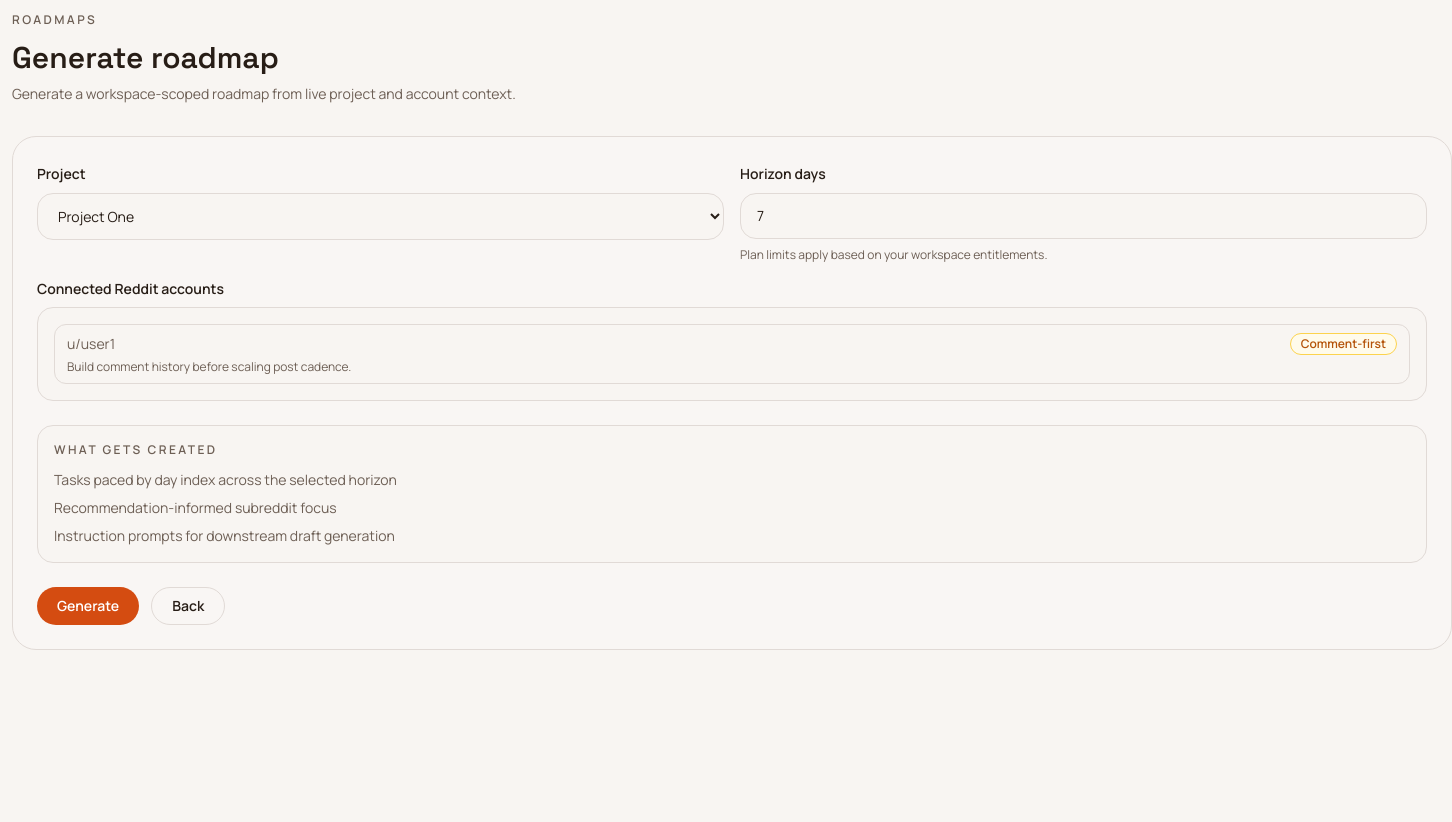
Test: RoadmapGenerateForm › shows detailed horizon message when API returns ROADMAP_HORIZON_LIMIT
What coordinates should you click on to do the following:
click the button "Generate"
I would click on:
 (88, 606)
Its box is [37,587,139,625].
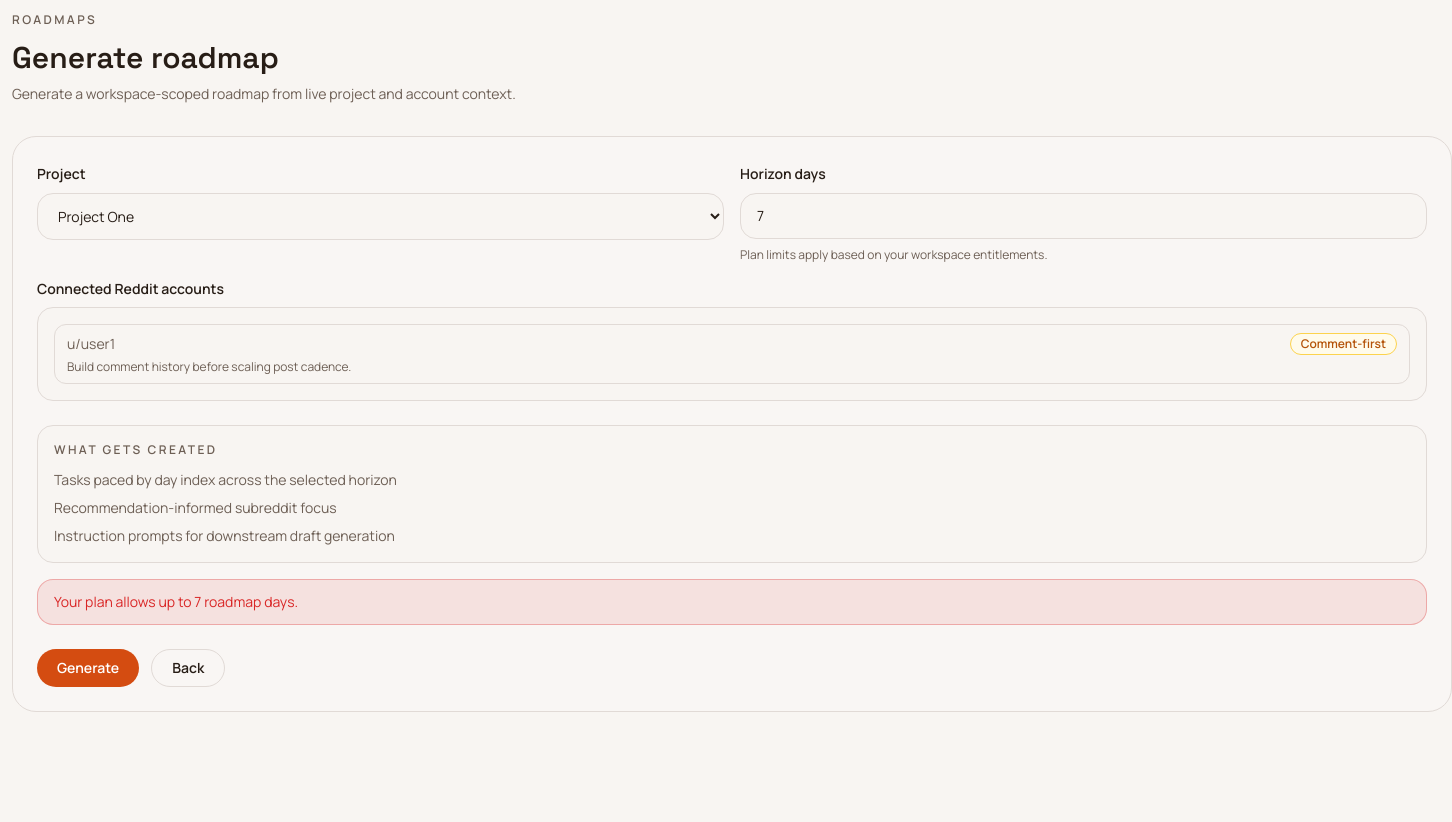
Check: the text "Your plan allows up to 7 roadmap days." is shown, box [37,579,1427,625]
